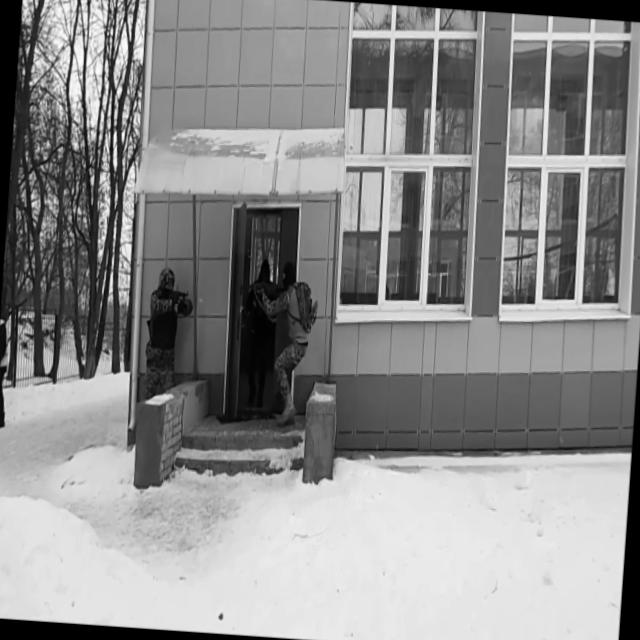gun: (243, 276, 287, 300), (158, 284, 188, 312)
person: (236, 257, 281, 406)
person with a gun: (235, 257, 319, 427), (142, 264, 196, 404)
